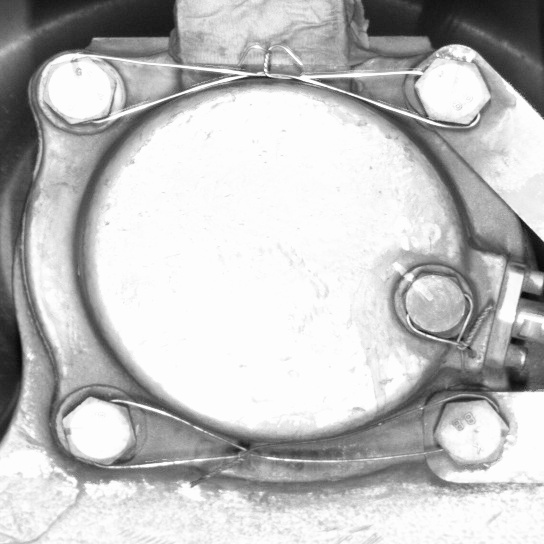IronWire: (33, 46, 502, 137), (46, 385, 512, 475)
Screw: (399, 43, 500, 137), (47, 386, 147, 480), (32, 48, 127, 133), (427, 387, 512, 473), (393, 262, 473, 344)
